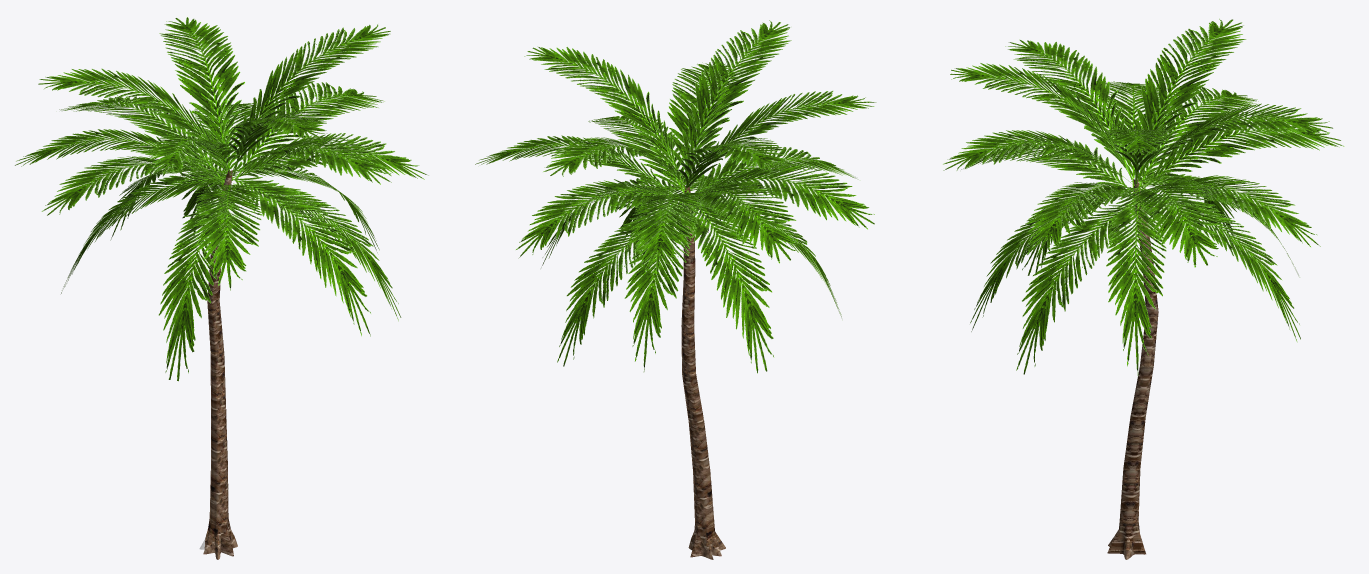
File: Palm.fbx
3 views of the same model, side by side, from view 1: azimuth 30°, elevation 25°; view 2: azimuth 150°, elevation 25°; view 3: azimuth 270°, elevation 25° (orthographic). The views are drawn at different scales.
Parts seen in each view (by area): view 1: Model; view 2: Model; view 3: Model.
Boxes of the visible parts, bbox=[...] form: Model: bbox=[15, 17, 428, 559]; Model: bbox=[475, 20, 876, 559]; Model: bbox=[943, 18, 1344, 559].
Size of the model in its own units: 580 by 691 by 564.
3 materials, 2 textured.
